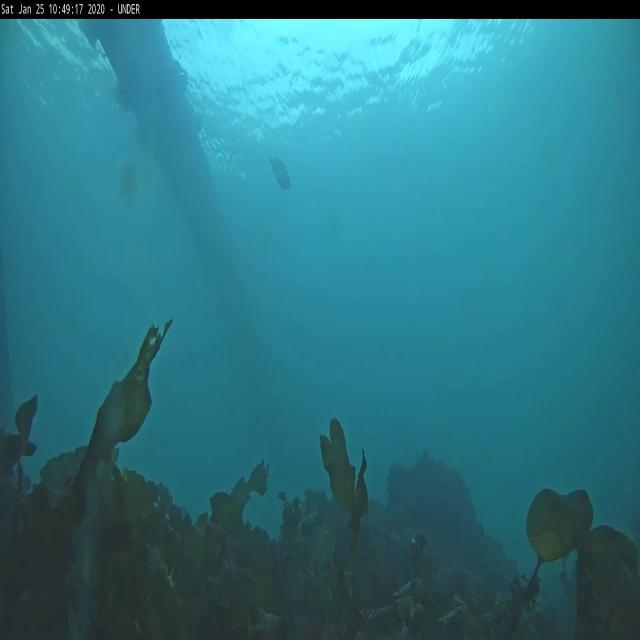fish: (266, 150, 292, 196)
